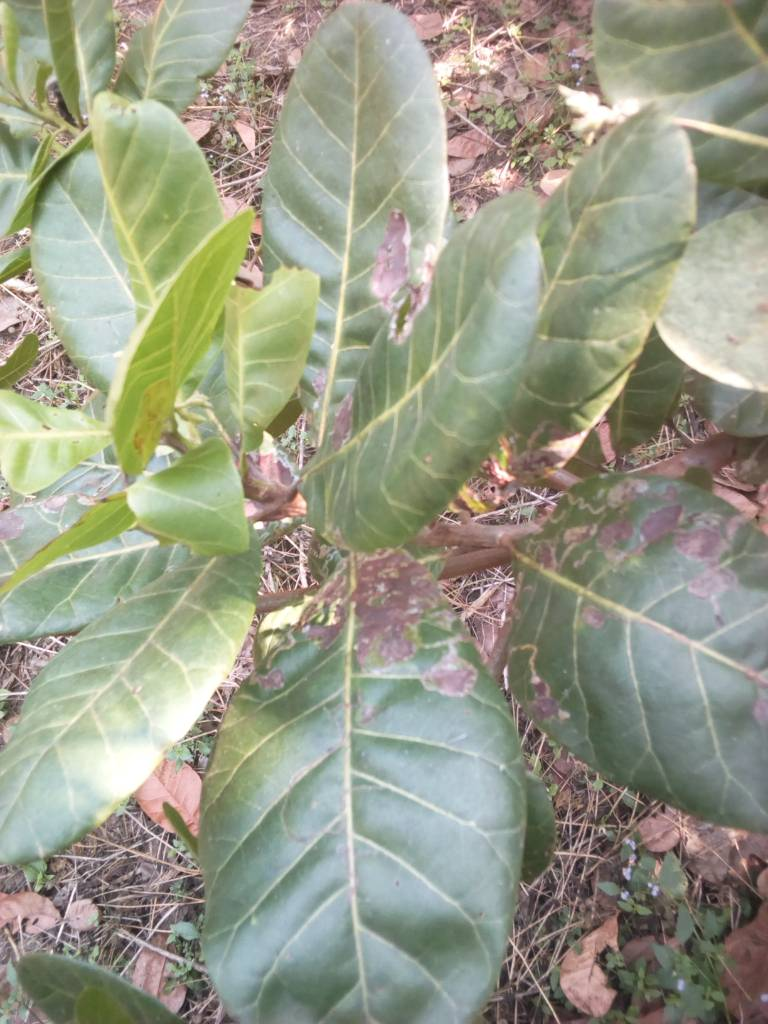Dysdercus wolkerii: (190, 553, 586, 1024), (521, 466, 768, 853)
